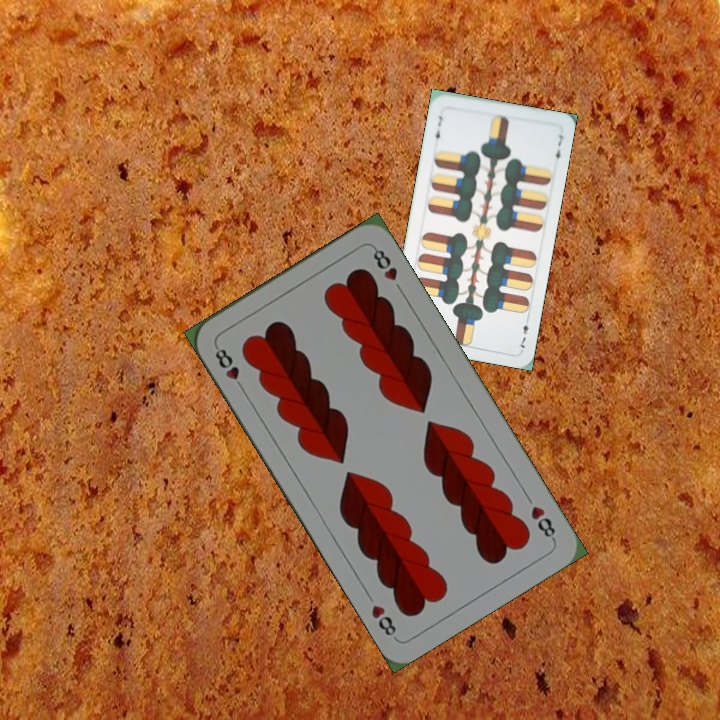E7: (514, 320, 531, 353), (430, 112, 445, 145)
H8: (210, 341, 248, 394), (526, 501, 558, 544)
